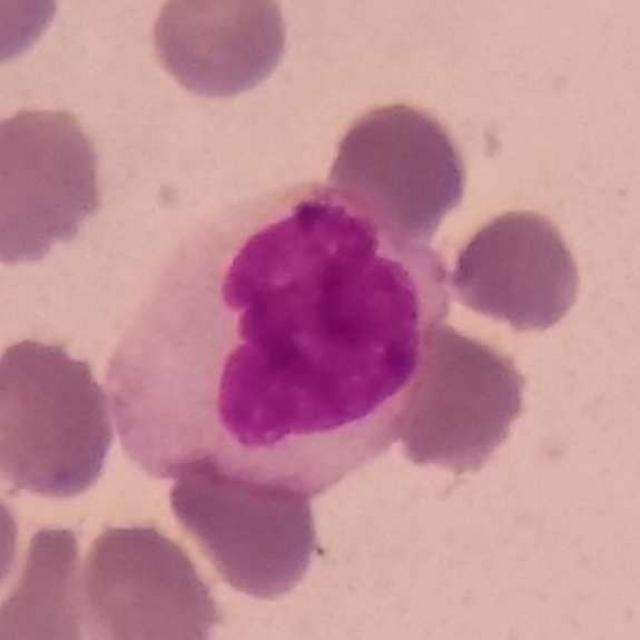Monocyte: (100, 180, 453, 508)
RBC: (164, 446, 330, 606), (385, 317, 534, 480), (0, 328, 121, 504), (323, 94, 474, 233), (443, 203, 588, 335), (0, 97, 111, 269), (75, 515, 227, 639), (144, 0, 295, 105), (1, 516, 99, 640), (0, 0, 68, 72), (0, 454, 24, 625)
